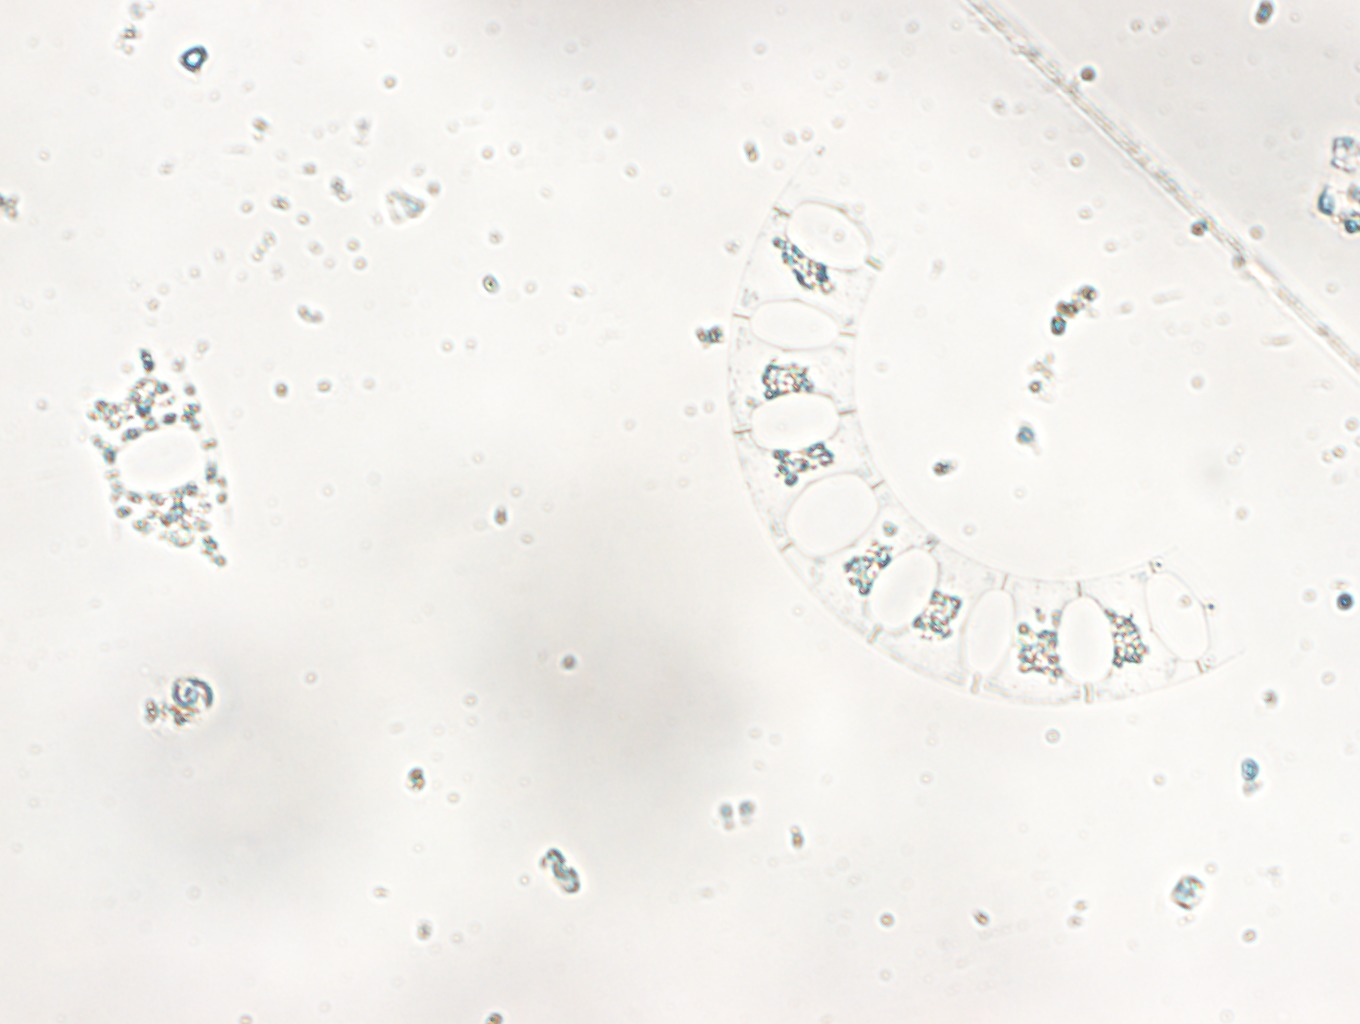eucampia: (718, 171, 1252, 703), (75, 350, 237, 589)
